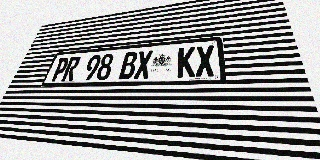8: (95, 53, 115, 80)
9: (82, 54, 102, 81)
B: (118, 51, 138, 79)
K: (177, 47, 195, 78)
P: (50, 57, 70, 82)
R: (61, 56, 81, 81)
X: (196, 45, 215, 77), (134, 50, 153, 79)
